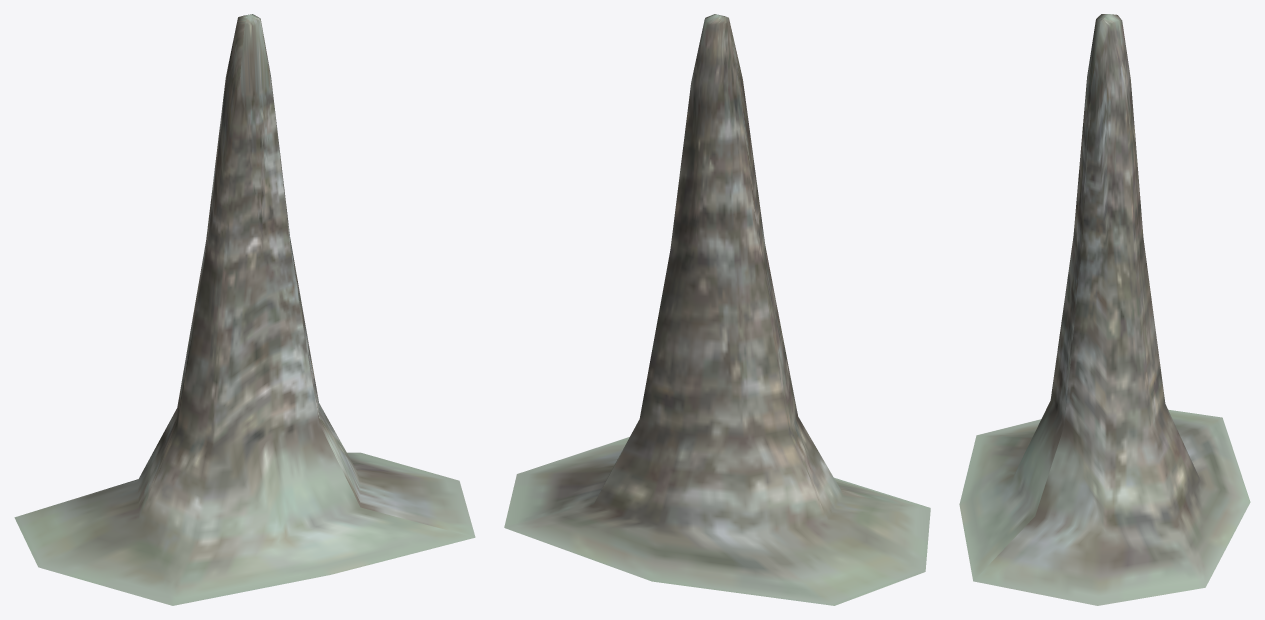
Rendered from TROLLHOLE02_PS-UPPERSTALAG05.fbx.
3 views of the same model, side by side, from view 1: azimuth 30°, elevation 25°; view 2: azimuth 150°, elevation 25°; view 3: azimuth 270°, elevation 25° (orthographic). The views are drawn at different scales.
Visible parts, largest first — view 1: TROLLHOLE02_PS-UPPERSTALAG05; view 2: TROLLHOLE02_PS-UPPERSTALAG05; view 3: TROLLHOLE02_PS-UPPERSTALAG05.
Boxes of the visible parts, x1,y1,x2,y2 form: TROLLHOLE02_PS-UPPERSTALAG05: (14,14,475,605); TROLLHOLE02_PS-UPPERSTALAG05: (504,14,930,605); TROLLHOLE02_PS-UPPERSTALAG05: (959,14,1250,605).
Size of the model in its own units: 19801 by 23477 by 12454.
1 material, 1 textured.
